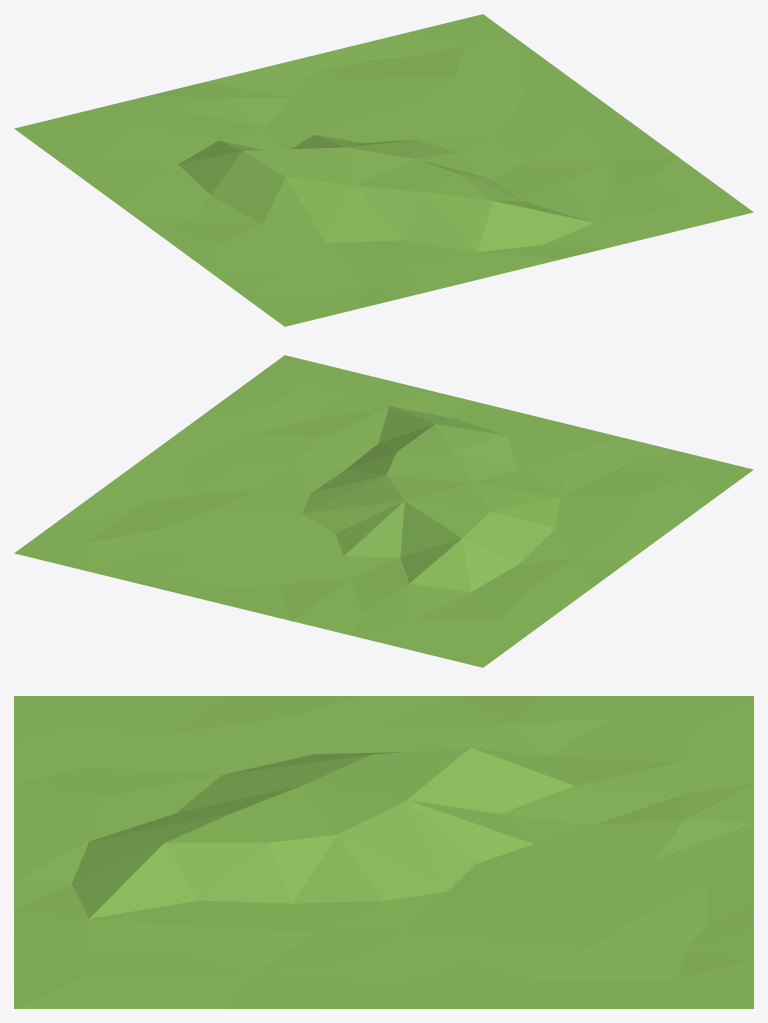
File: MT_Terrain_S_c_09_LOD.fbx
3 renders of one model, top to bottom at view 1: azimuth 30°, elevation 25°; view 2: azimuth 150°, elevation 25°; view 3: azimuth 270°, elevation 25°, orthographic. The views are drawn at different scales.
Parts seen in each view (by area): view 1: MT_Terrain_S_c_09_LOD0; view 2: MT_Terrain_S_c_09_LOD0; view 3: MT_Terrain_S_c_09_LOD0.
Part boxes in pixels (x1,y1,x2,y2): MT_Terrain_S_c_09_LOD0: [14, 14, 753, 326]; MT_Terrain_S_c_09_LOD0: [14, 355, 753, 667]; MT_Terrain_S_c_09_LOD0: [14, 696, 753, 1008].
Size of what is drawn, in the model's own units: 2500 by 131 by 2500.
